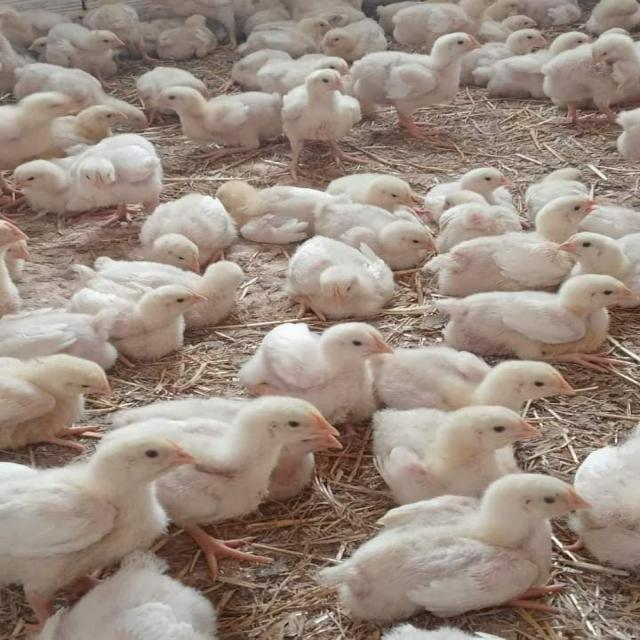Healthy: (310, 468, 588, 619), (417, 265, 638, 365), (233, 310, 401, 429), (346, 28, 480, 150), (275, 227, 401, 322)
